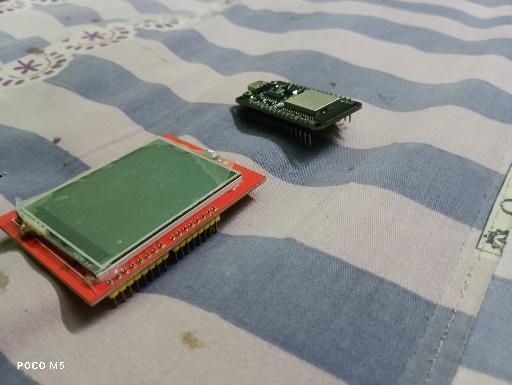Display: (0, 133, 267, 310)
Esp32: (235, 78, 362, 147)
